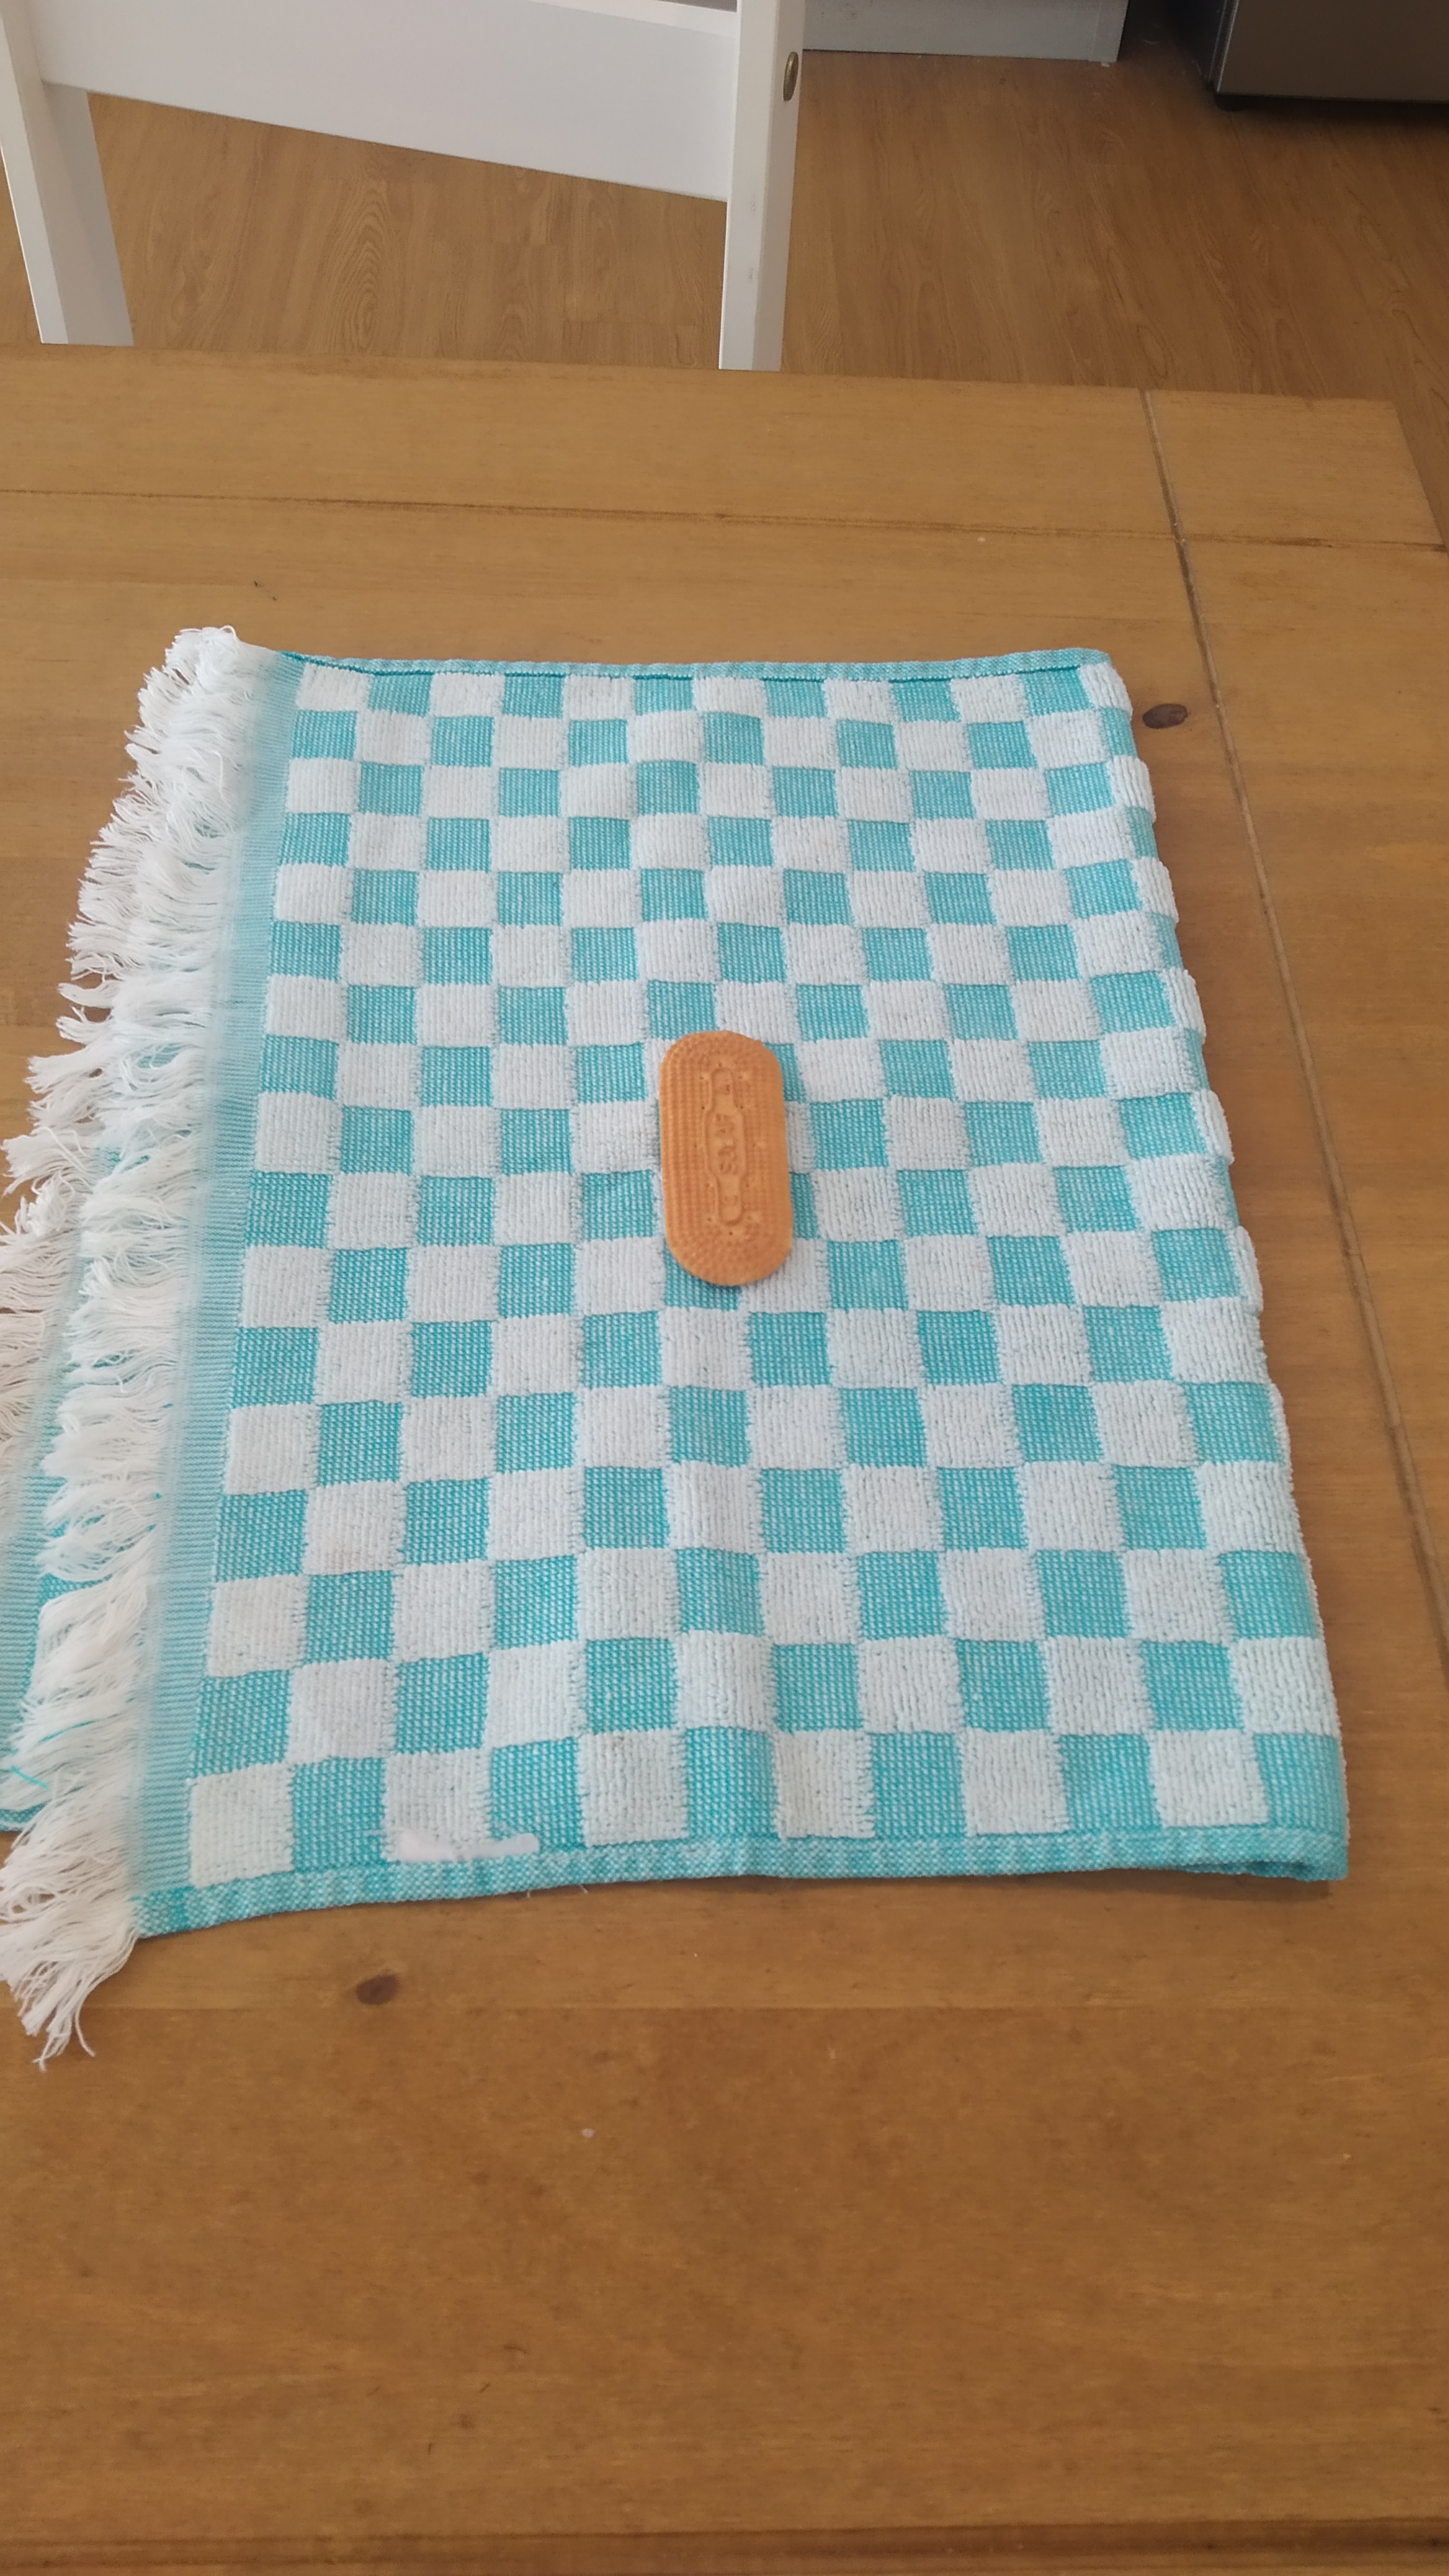solar: (656, 1031, 793, 1288)
